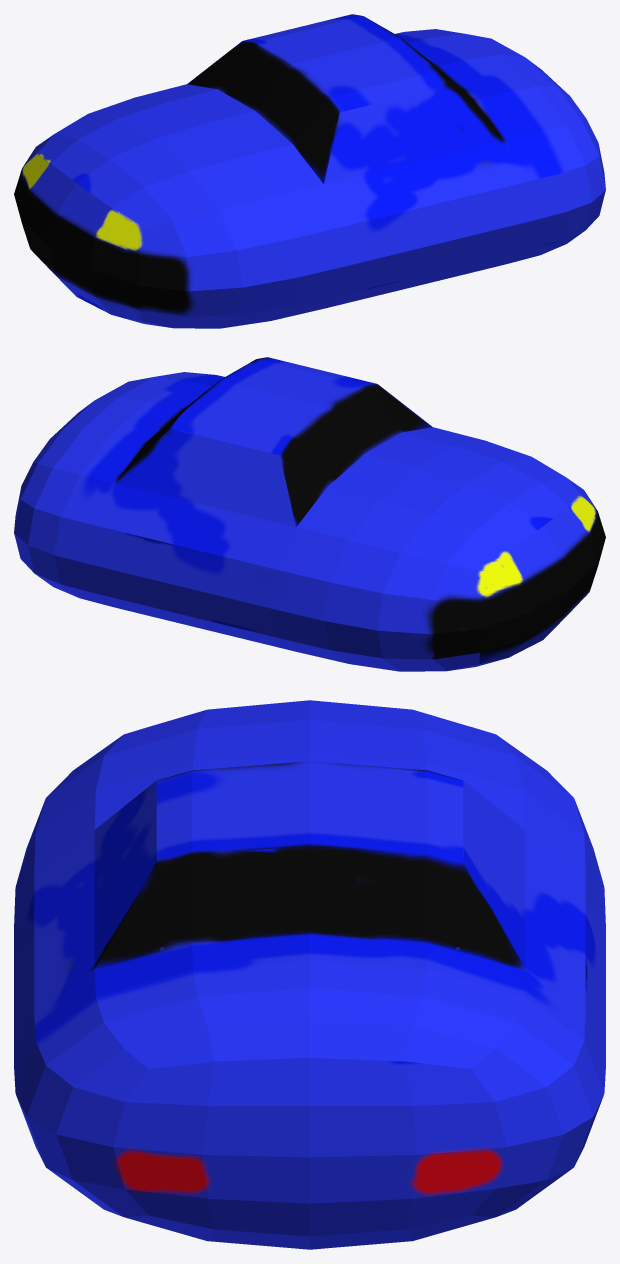
Rendered from cart.glb.
3 views of the same model, one above another, from view 1: azimuth 30°, elevation 25°; view 2: azimuth 150°, elevation 25°; view 3: azimuth 270°, elevation 25° (orthographic). The views are drawn at different scales.
Visible parts, largest first — view 1: Cube; view 2: Cube; view 3: Cube.
Part boxes in pixels (x1,y1,x2,y2): Cube: [14, 14, 605, 328]; Cube: [14, 357, 605, 671]; Cube: [14, 700, 605, 1249].
Size of the model in its own units: 1.42 by 0.5607 by 0.9171.
1 material, 1 textured.
